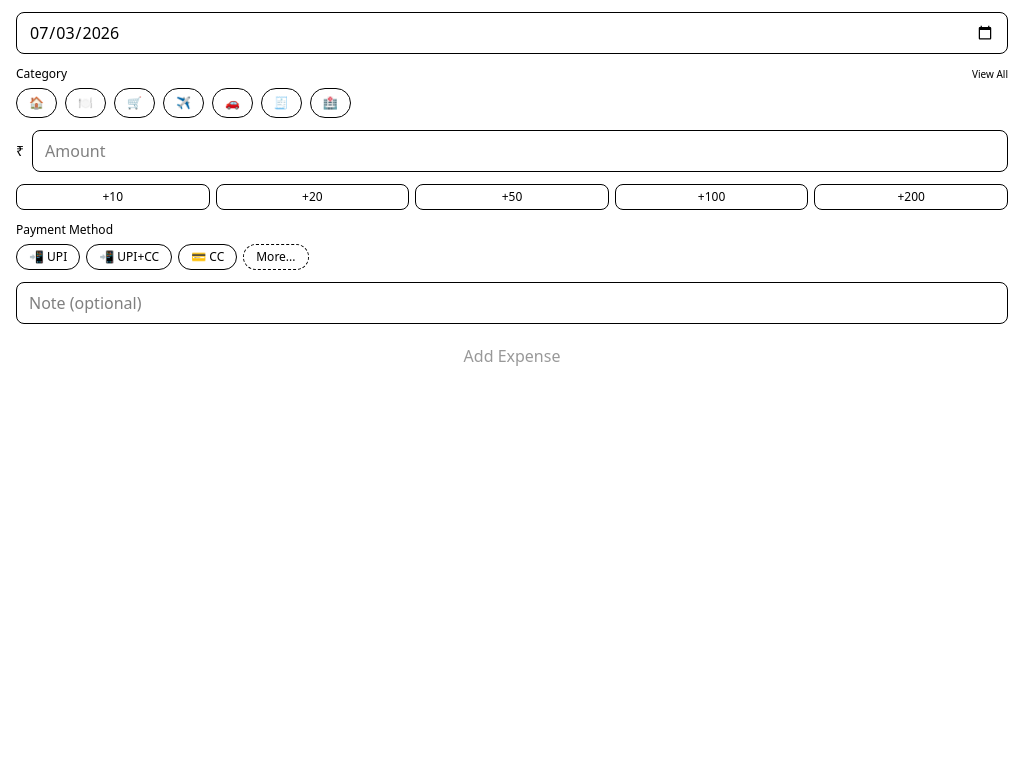
Test: AddExpense — meta sub-form integration › reveals the Fuel sub-form when Vehicle/Fuel is selected
# If Vehicle is hidden behind View All (BUDGET_VISIBLE_CATEGORIES tuning), reveal it first
Click the button "View All" at (990, 74), box [972,66,1008,82]
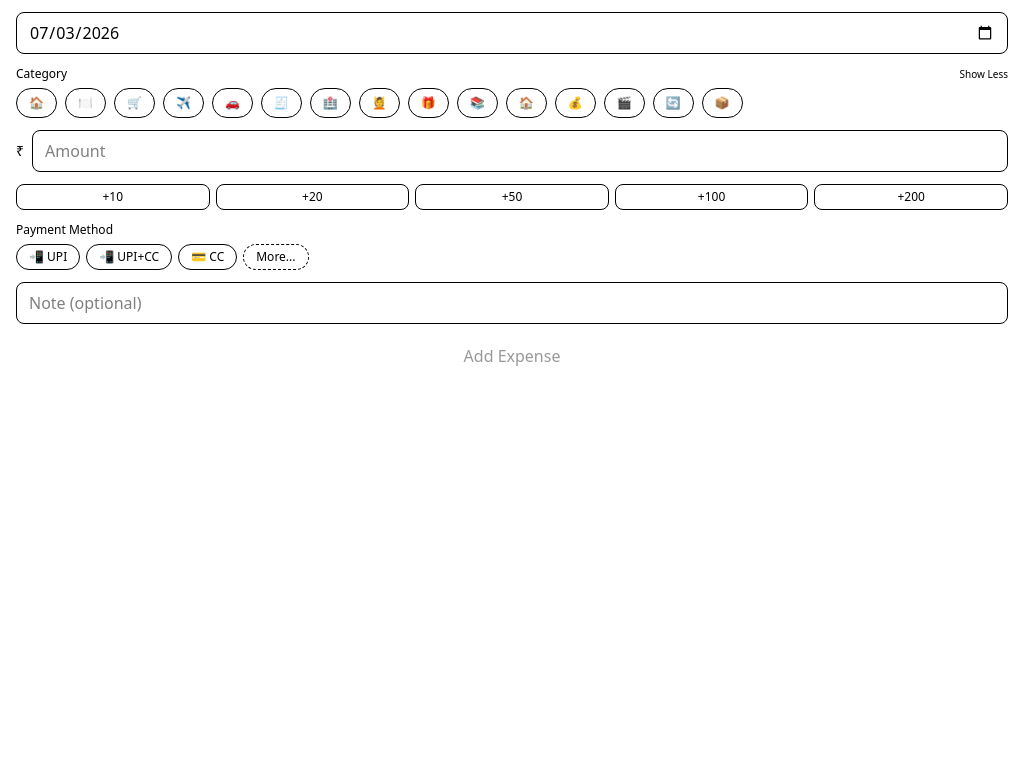
Click the button "🚗" at (232, 103), box [212,88,253,118]
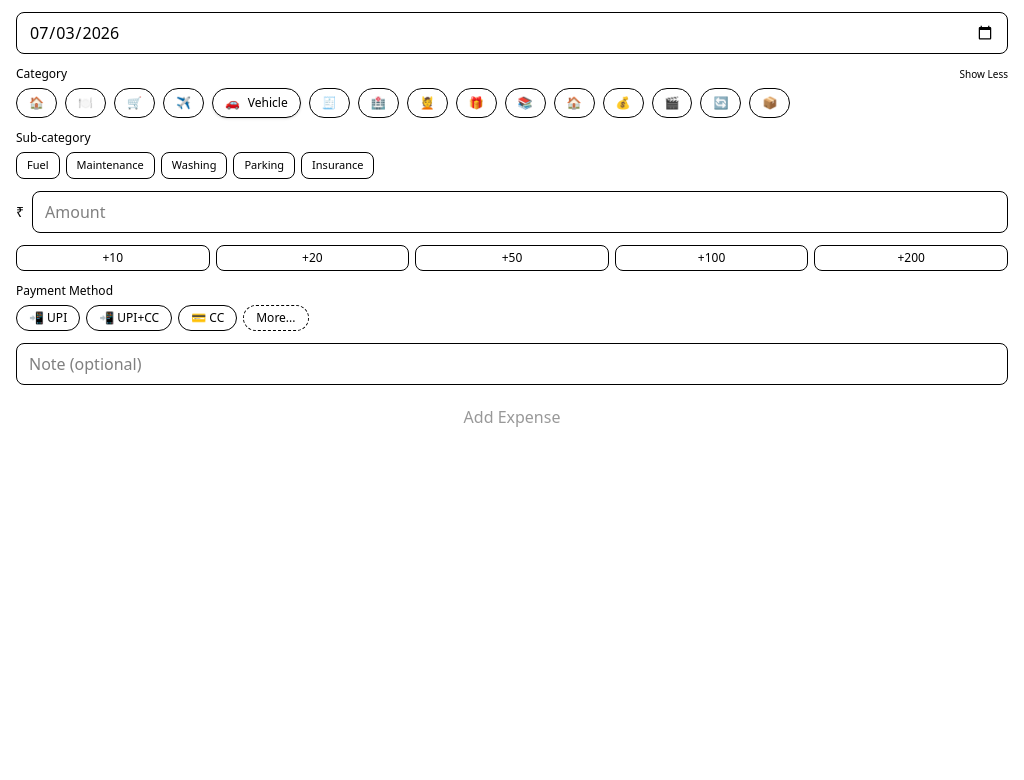
Click the button "Fuel" at (38, 165), box [16,152,60,178]
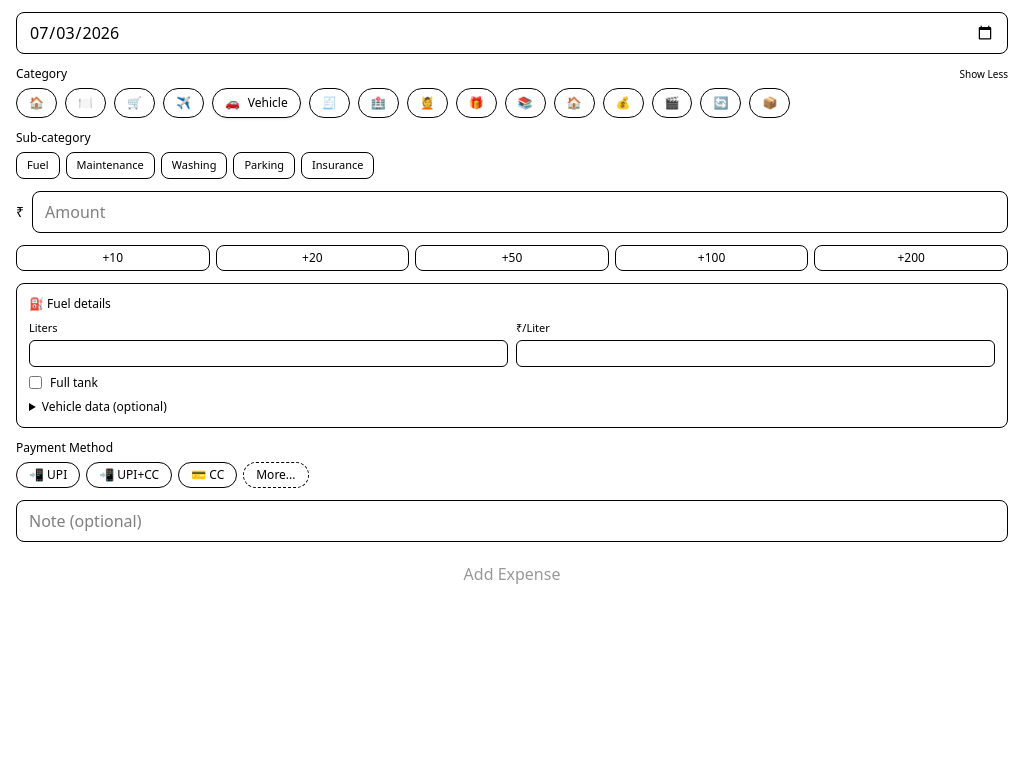
Check: the text "⛽ Fuel details" is shown, box [29,294,111,312]
